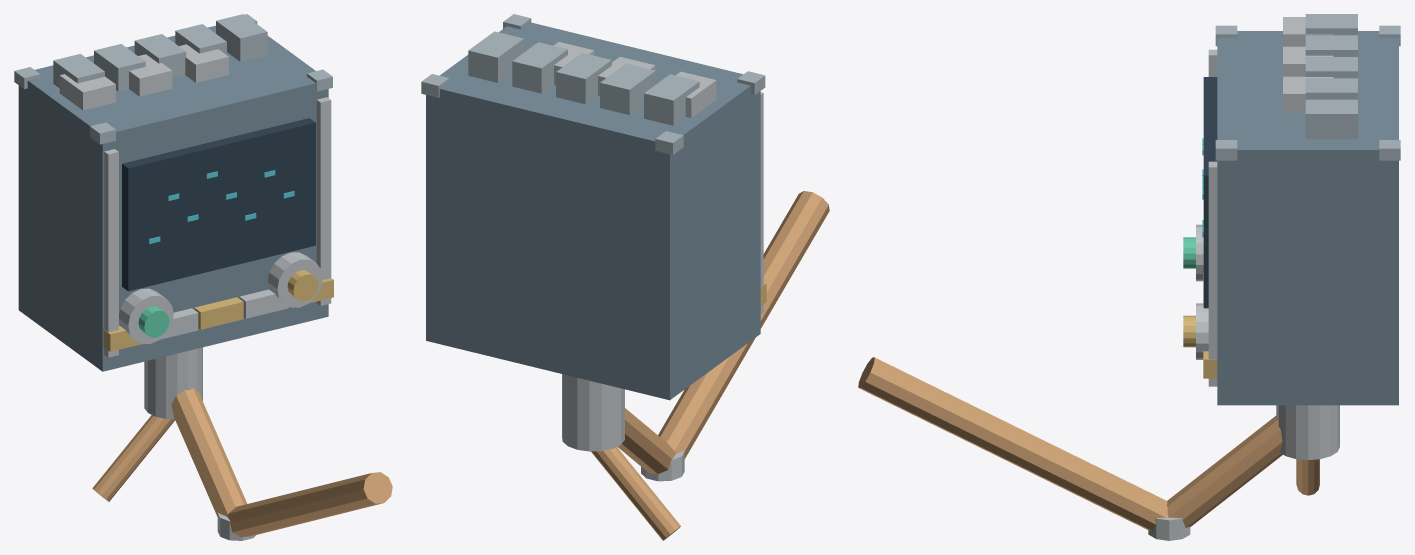
The model's file is 35_L73_InterfaceTemperatureProbe.glb.
3 renders of one model, left to right at view 1: azimuth 30°, elevation 25°; view 2: azimuth 150°, elevation 25°; view 3: azimuth 270°, elevation 25°, orthographic. The views are drawn at different scales.
Visible parts, largest first — view 1: InterfaceTemperatureProbe_Node_0000, InterfaceTemperatureProbe_Node_0007, InterfaceTemperatureProbe_Node_0037, InterfaceTemperatureProbe_Node_0036, InterfaceTemperatureProbe_Node_0034, InterfaceTemperatureProbe_Node_0006, InterfaceTemperatureProbe_Node_0005, InterfaceTemperatureProbe_Node_0035, InterfaceTemperatureProbe_Node_0028, InterfaceTemperatureProbe_Node_0019, InterfaceTemperatureProbe_Node_0017, InterfaceTemperatureProbe_Node_0021 (+13 smaller); view 2: InterfaceTemperatureProbe_Node_0000, InterfaceTemperatureProbe_Node_0037, InterfaceTemperatureProbe_Node_0034, InterfaceTemperatureProbe_Node_0035, InterfaceTemperatureProbe_Node_0028, InterfaceTemperatureProbe_Node_0025, InterfaceTemperatureProbe_Node_0036, InterfaceTemperatureProbe_Node_0027, InterfaceTemperatureProbe_Node_0026, InterfaceTemperatureProbe_Node_0024, InterfaceTemperatureProbe_Node_0021, InterfaceTemperatureProbe_Node_0005 (+2 smaller); view 3: InterfaceTemperatureProbe_Node_0000, InterfaceTemperatureProbe_Node_0037, InterfaceTemperatureProbe_Node_0036, InterfaceTemperatureProbe_Node_0034, InterfaceTemperatureProbe_Node_0028, InterfaceTemperatureProbe_Node_0007, InterfaceTemperatureProbe_Node_0006, InterfaceTemperatureProbe_Node_0027, InterfaceTemperatureProbe_Node_0025, InterfaceTemperatureProbe_Node_0024, InterfaceTemperatureProbe_Node_0026, InterfaceTemperatureProbe_Node_0023 (+5 smaller).
Boxes of the visible parts, <box> form: InterfaceTemperatureProbe_Node_0000: <box>18,25,328,371</box>; InterfaceTemperatureProbe_Node_0007: <box>122,118,315,291</box>; InterfaceTemperatureProbe_Node_0037: <box>227,472,392,537</box>; InterfaceTemperatureProbe_Node_0036: <box>171,388,247,516</box>; InterfaceTemperatureProbe_Node_0034: <box>144,347,202,418</box>; InterfaceTemperatureProbe_Node_0006: <box>316,97,331,305</box>; InterfaceTemperatureProbe_Node_0005: <box>104,149,118,357</box>; InterfaceTemperatureProbe_Node_0035: <box>92,415,174,501</box>; InterfaceTemperatureProbe_Node_0028: <box>216,14,267,61</box>; InterfaceTemperatureProbe_Node_0019: <box>267,252,322,307</box>; InterfaceTemperatureProbe_Node_0017: <box>119,288,173,344</box>; InterfaceTemperatureProbe_Node_0021: <box>59,74,115,110</box>; InterfaceTemperatureProbe_Node_0000: <box>426,22,760,400</box>; InterfaceTemperatureProbe_Node_0037: <box>658,191,829,458</box>; InterfaceTemperatureProbe_Node_0034: <box>562,374,624,451</box>; InterfaceTemperatureProbe_Node_0035: <box>591,447,680,540</box>; InterfaceTemperatureProbe_Node_0028: <box>468,31,523,82</box>; InterfaceTemperatureProbe_Node_0025: <box>600,63,655,114</box>; InterfaceTemperatureProbe_Node_0036: <box>617,408,675,473</box>; InterfaceTemperatureProbe_Node_0027: <box>512,42,567,93</box>; InterfaceTemperatureProbe_Node_0026: <box>556,53,611,104</box>; InterfaceTemperatureProbe_Node_0024: <box>644,74,699,125</box>; InterfaceTemperatureProbe_Node_0021: <box>675,71,716,117</box>; InterfaceTemperatureProbe_Node_0005: <box>760,92,763,313</box>; InterfaceTemperatureProbe_Node_0000: <box>1217,31,1398,405</box>; InterfaceTemperatureProbe_Node_0037: <box>858,357,1167,530</box>; InterfaceTemperatureProbe_Node_0036: <box>1167,416,1282,527</box>; InterfaceTemperatureProbe_Node_0034: <box>1276,405,1339,460</box>; InterfaceTemperatureProbe_Node_0028: <box>1305,99,1357,139</box>; InterfaceTemperatureProbe_Node_0007: <box>1203,77,1217,308</box>; InterfaceTemperatureProbe_Node_0006: <box>1208,161,1217,386</box>; InterfaceTemperatureProbe_Node_0027: <box>1305,78,1357,99</box>; InterfaceTemperatureProbe_Node_0025: <box>1305,35,1357,56</box>; InterfaceTemperatureProbe_Node_0024: <box>1305,14,1357,35</box>; InterfaceTemperatureProbe_Node_0026: <box>1305,57,1357,78</box>; InterfaceTemperatureProbe_Node_0023: <box>1283,76,1333,113</box>.
Bounding box in the file's own units: 0.4605 × 0.8254 × 0.8597.
